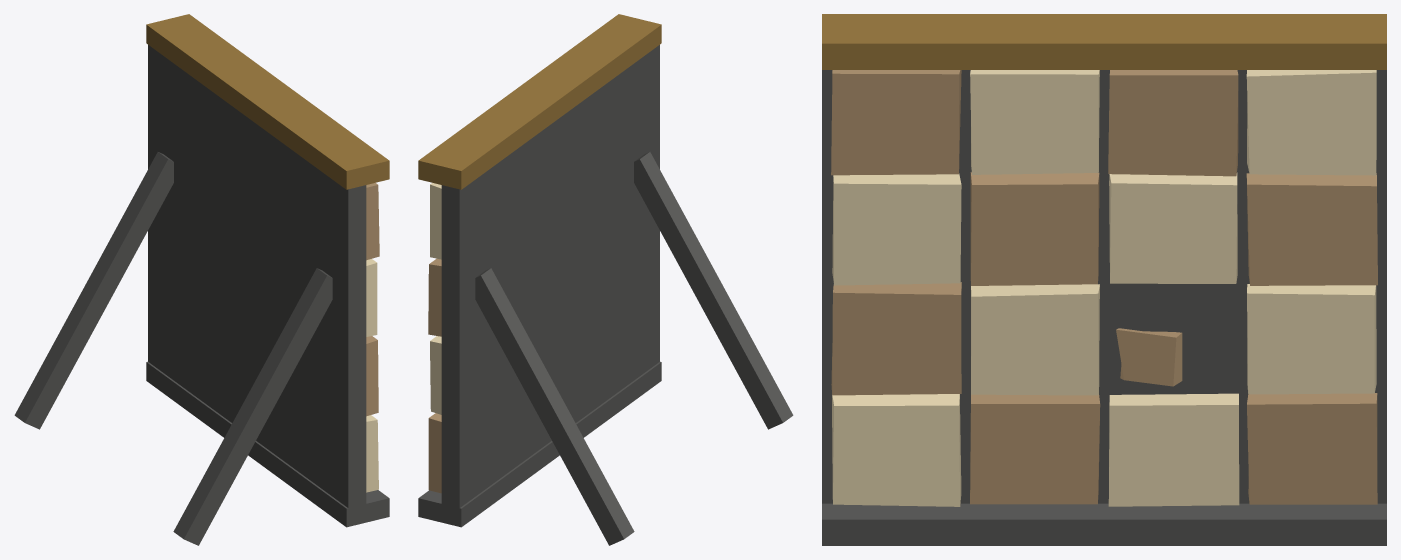
Rendered from arm_ceramic_plates.glb.
3 renders of one model, left to right at view 1: azimuth 30°, elevation 25°; view 2: azimuth 150°, elevation 25°; view 3: azimuth 270°, elevation 25°, orthographic. The views are drawn at different scales.
Parts seen in each view (by area): view 1: arm_ceramic_plates; view 2: arm_ceramic_plates; view 3: arm_ceramic_plates.
Boxes of the visible parts, bbox=[...] form: arm_ceramic_plates: bbox=[14, 14, 389, 545]; arm_ceramic_plates: bbox=[418, 14, 793, 545]; arm_ceramic_plates: bbox=[822, 14, 1386, 545].
Bounding box in the file's own units: 0.5309 × 0.95 × 0.968.
